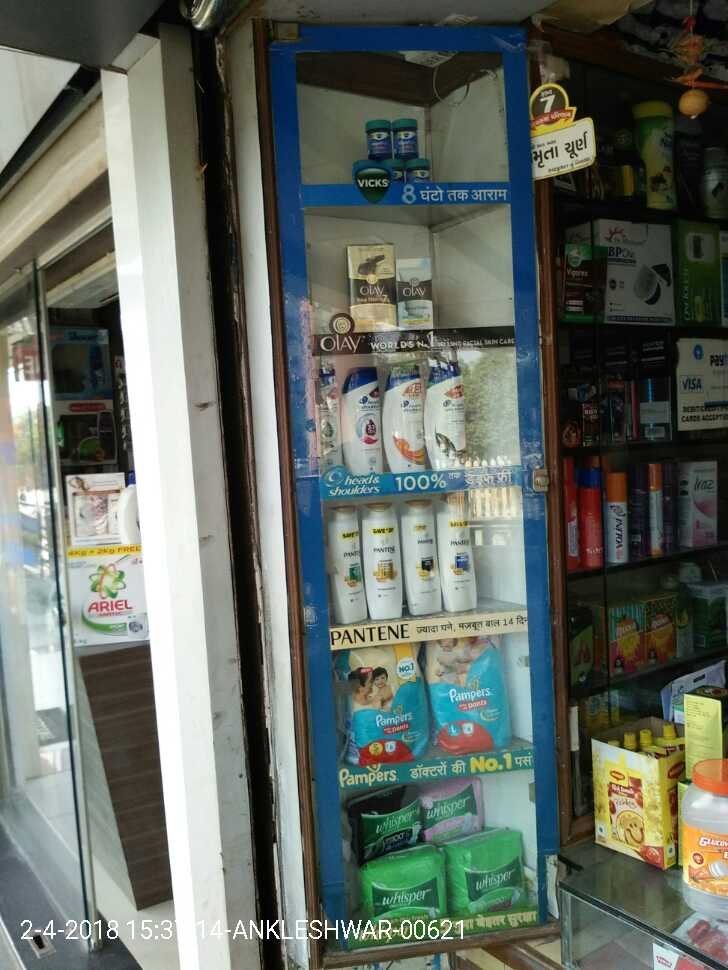vicks: (393, 121, 421, 155), (370, 119, 389, 155), (407, 159, 430, 181), (385, 157, 406, 181)
